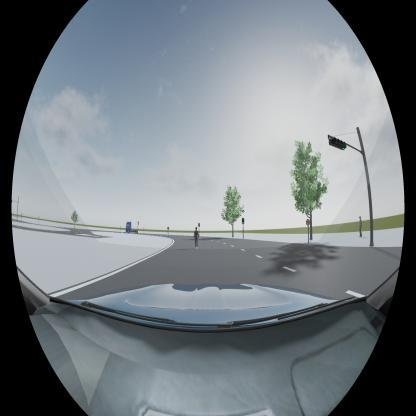Green Light: (242, 217, 245, 225)
